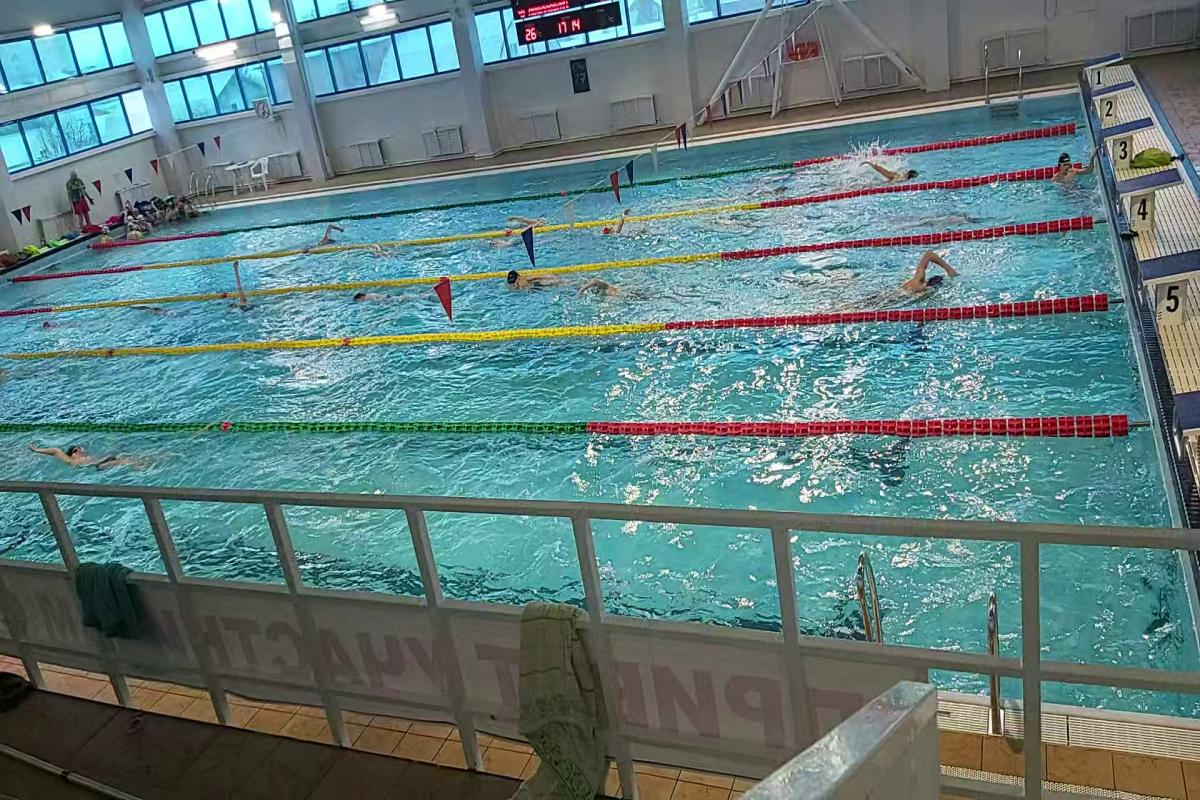swimmer: (21, 430, 157, 475), (858, 247, 966, 303), (578, 273, 660, 306), (856, 155, 926, 187), (1043, 145, 1091, 191), (500, 263, 563, 294), (222, 266, 264, 311), (349, 287, 409, 309), (599, 210, 637, 240), (310, 225, 350, 245)
